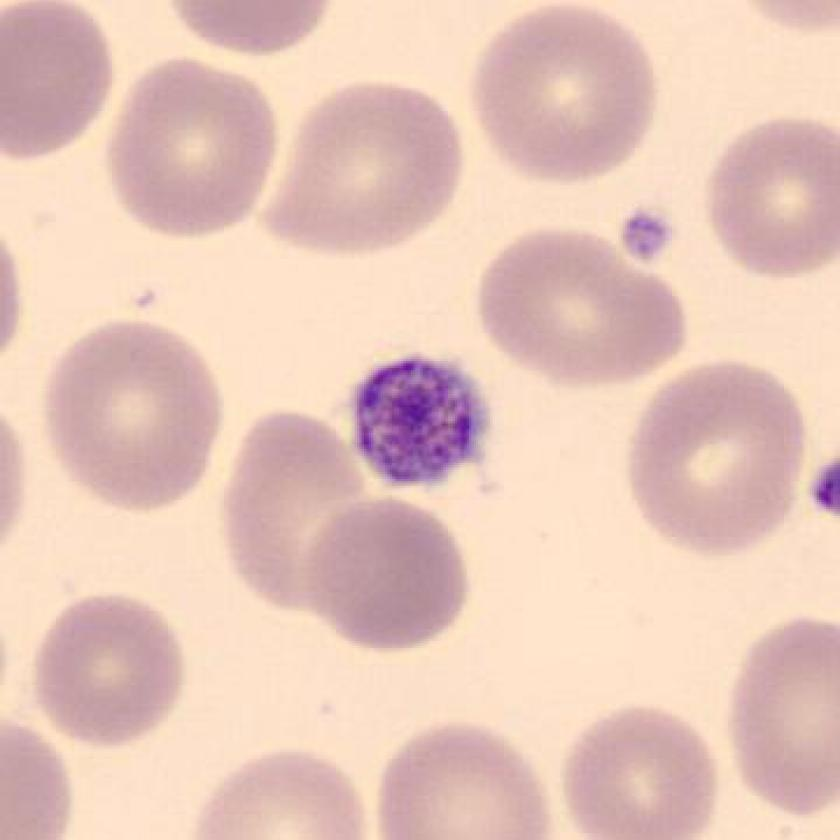platelets: (347, 348, 501, 499), (615, 200, 675, 269), (808, 460, 840, 520)
